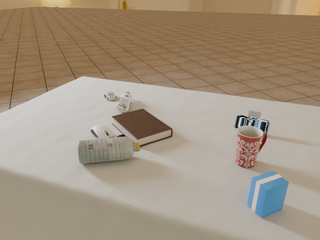book: (112, 109, 172, 147)
bottle: (78, 137, 140, 164), (117, 92, 132, 113)
box: (247, 171, 289, 218)
cup: (236, 126, 267, 168)
mouse: (90, 124, 114, 138)
phone: (234, 115, 270, 134)
toy_car: (104, 91, 116, 100)
